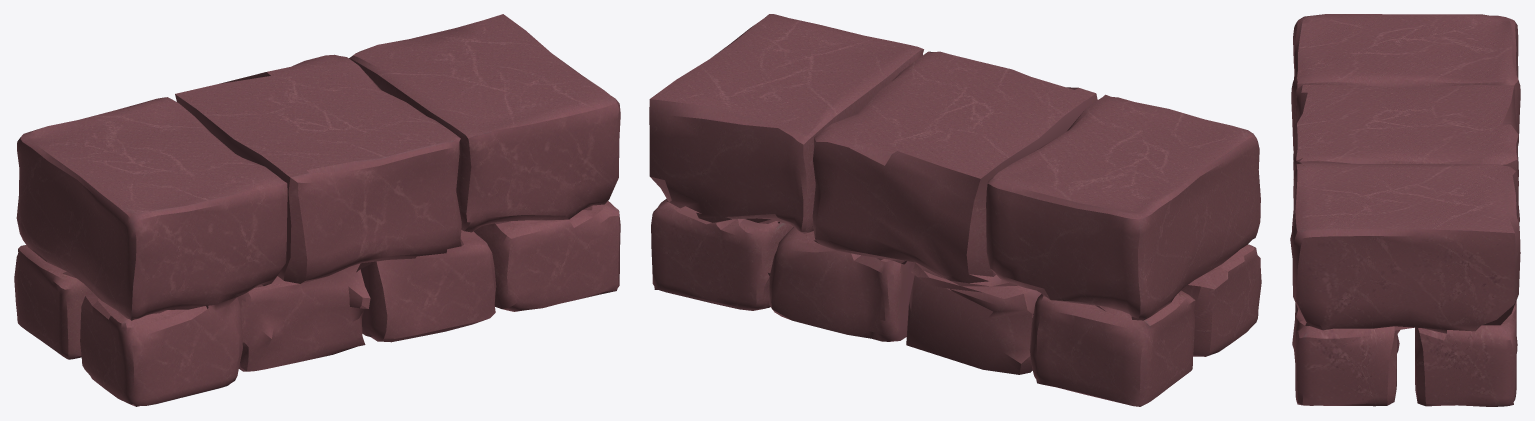
Rendered from brick_double_granite.glb.
The picture shows the model from 3 angles, left to right: view 1: azimuth 30°, elevation 25°; view 2: azimuth 150°, elevation 25°; view 3: azimuth 270°, elevation 25°; orthographic projection. The views are drawn at different scales.
Parts seen in each view (by area): view 1: Mesh_0; view 2: Mesh_0; view 3: Mesh_0.
Part boxes in pixels (bbox=[...]): Mesh_0: bbox=[14, 14, 620, 406]; Mesh_0: bbox=[649, 14, 1261, 406]; Mesh_0: bbox=[1290, 14, 1520, 406].
Bounding box in the file's own units: 1.9 × 0.7054 × 0.8302.
1 material, 1 textured.
